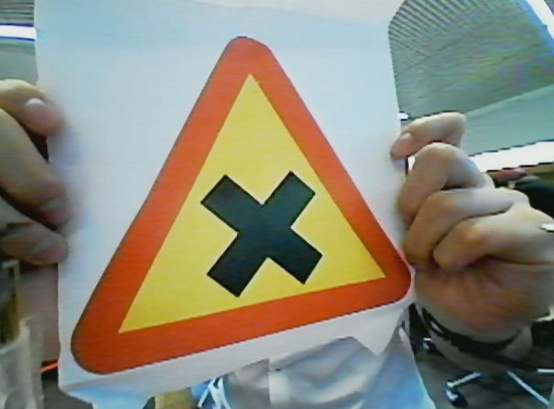junction: (56, 35, 414, 376)
